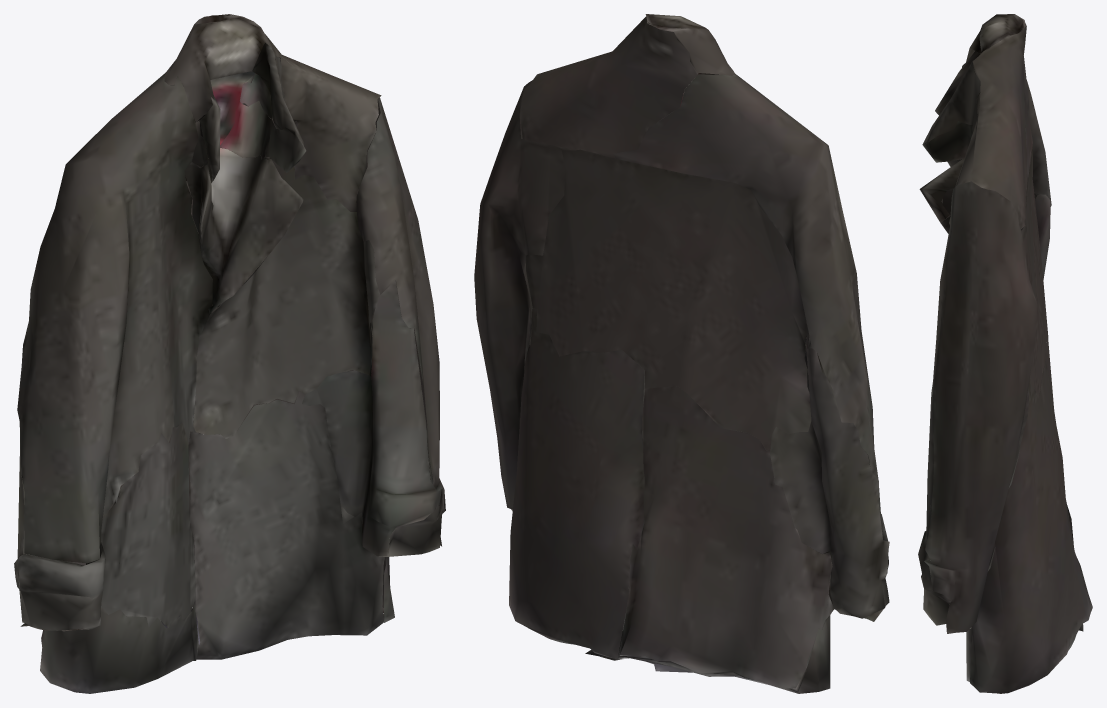
The model's file is wool_coat_lo.glb.
3 views of the same model, side by side, from view 1: azimuth 30°, elevation 25°; view 2: azimuth 150°, elevation 25°; view 3: azimuth 270°, elevation 25° (orthographic). The views are drawn at different scales.
Parts seen in each view (by area): view 1: Object_2; view 2: Object_2; view 3: Object_2.
Part boxes in pixels (x1,y1,x2,y2): Object_2: (14, 14, 445, 693); Object_2: (474, 14, 889, 693); Object_2: (918, 14, 1092, 693).
Bounding box in the file's own units: 0.6997 × 1.05 × 0.2714.
Materials: 1 (1 with a texture image).
